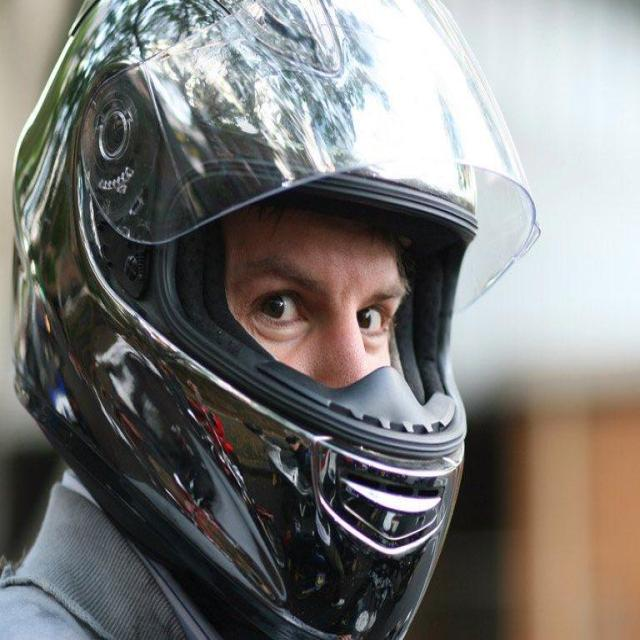Helm: (8, 0, 539, 640)
